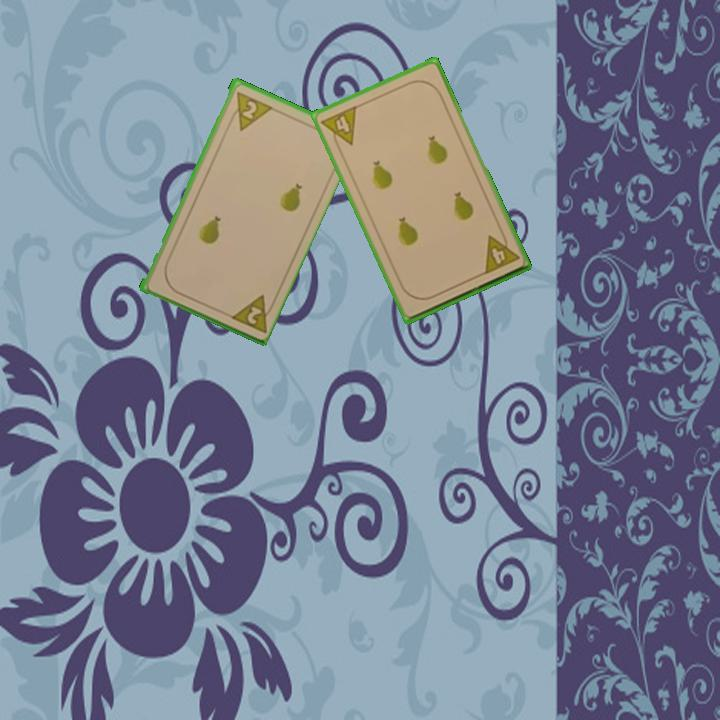2p: (225, 290, 278, 335), (226, 87, 274, 133)
4p: (318, 102, 360, 153), (480, 227, 522, 277)
